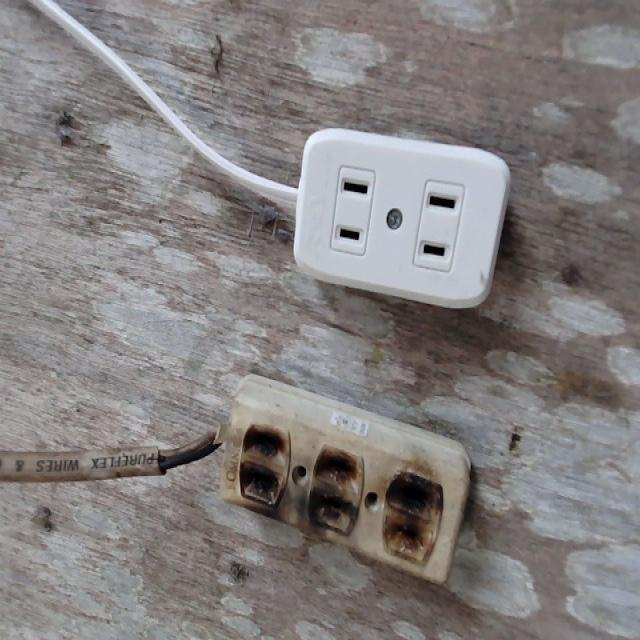-: (235, 416, 444, 569)
